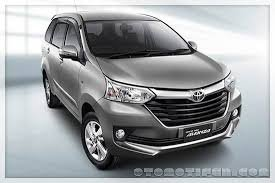mobil: (41, 8, 244, 165)
